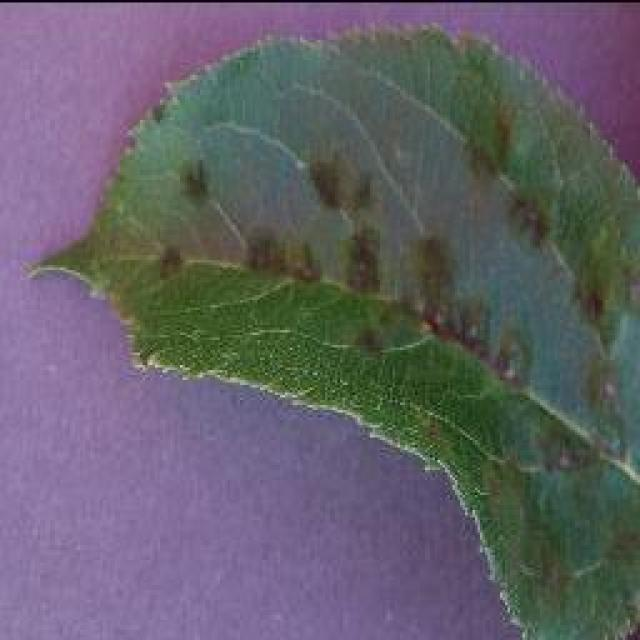apple scab disease: (22, 22, 638, 638)
